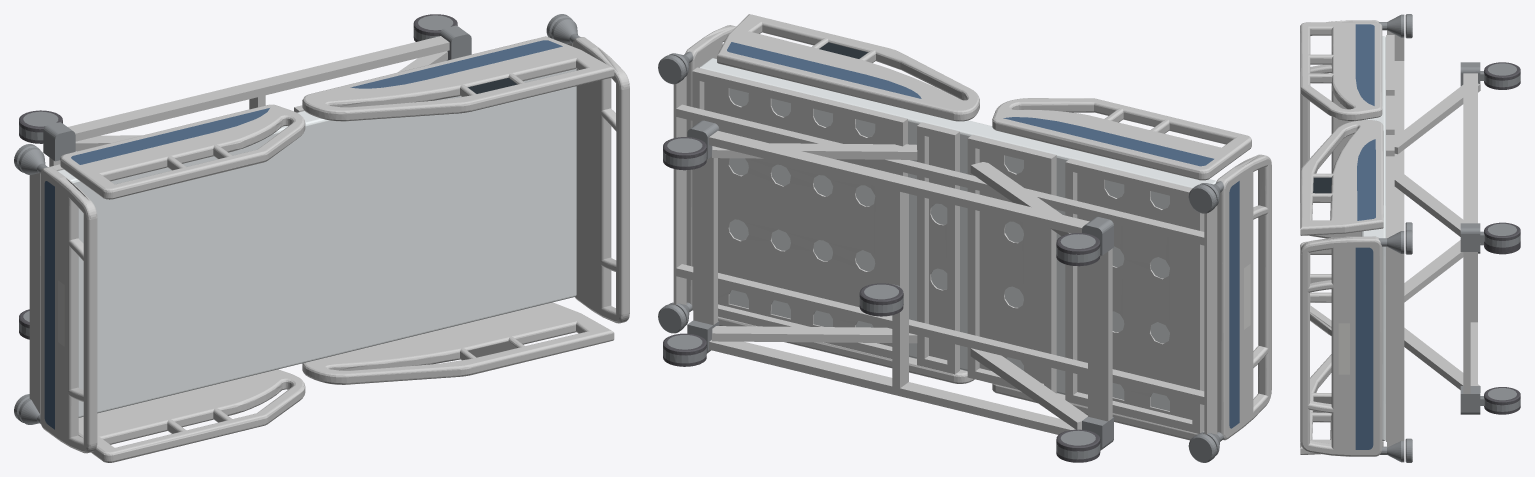
Rendered from HospitalBed.dae.
3 renders of one model, left to right at view 1: azimuth 30°, elevation 25°; view 2: azimuth 150°, elevation 25°; view 3: azimuth 270°, elevation 25°, orthographic. The views are drawn at different scales.
Parts seen in each view (by area): view 1: node_478e3def_41f2_43f9_b430_fc60b4d9b967_mesh0, node_2006829e_54ec_4334_bde4_4c59538d57ef_mesh0, node_ba18cf1b_bd4c_4ecd_a835_8ea5a9a93f5a_mesh0, node_fdbd8c94_3223_4cf7_b5a2_cfde519da265_mesh0, node_8890fd18_5be4_4d79_a7cd_62602f75226e_mesh0, node_67d6d611_6329_44d8_9904_80a70c72fd1d_mesh0, node_0024b23e_90e2_467d_83e0_f4d8cf379cf7_mesh0, node_1c993513_7750_45b3_8bfc_5615b5adfe17_mesh0, node_3c42bd38_24ec_47ff_943d_60bd509f94d9_mesh0, node_bd066da0_0be8_4381_8756_24483003024c_mesh0, node_966baa40_941b_4ab9_909a_093c46fd3494_mesh0, node_5b0e7c99_1895_4e89_8617_7dc551f1501a_mesh0 (+3 smaller); view 2: node_93010757_4fad_4bb6_b46e_b8bf334de1f8_mesh0, node_679e9a14_dabf_4772_b5fa_f2a72e33e269_mesh0, node_0024b23e_90e2_467d_83e0_f4d8cf379cf7_mesh0, node_478e3def_41f2_43f9_b430_fc60b4d9b967_mesh0, node_1c993513_7750_45b3_8bfc_5615b5adfe17_mesh0, node_6c902671_7116_4071_9b41_15d907dbfcd3_mesh0, node_2006829e_54ec_4334_bde4_4c59538d57ef_mesh0, node_fdbd8c94_3223_4cf7_b5a2_cfde519da265_mesh0, node_67d6d611_6329_44d8_9904_80a70c72fd1d_mesh0, node_163b2f93_34d1_4134_af7a_eb476f36abe8_mesh0, node_a639dc11_9381_42f3_9ec2_f81076ff99e3_mesh0, node_a9cfef90_7504_459e_9094_86bc7229d7a0_mesh0 (+11 smaller); view 3: node_2006829e_54ec_4334_bde4_4c59538d57ef_mesh0, node_fdbd8c94_3223_4cf7_b5a2_cfde519da265_mesh0, node_67d6d611_6329_44d8_9904_80a70c72fd1d_mesh0, node_1c993513_7750_45b3_8bfc_5615b5adfe17_mesh0, node_0024b23e_90e2_467d_83e0_f4d8cf379cf7_mesh0, node_3c42bd38_24ec_47ff_943d_60bd509f94d9_mesh0, node_a639dc11_9381_42f3_9ec2_f81076ff99e3_mesh0, node_db7fcb85_f38f_4f23_99ed_683390d04e24_mesh0, node_595262d2_30b9_4893_8ee8_ed6a8d5dd426_mesh0, node_478e3def_41f2_43f9_b430_fc60b4d9b967_mesh0, node_5b0e7c99_1895_4e89_8617_7dc551f1501a_mesh0, node_28ce15bc_426e_49bb_b331_aa3c1f6e486f_mesh0 (+10 smaller).
Boxes of the visible parts, x1=… form: node_478e3def_41f2_43f9_b430_fc60b4d9b967_mesh0: x1=58, y1=68, x2=576, y2=417; node_2006829e_54ec_4334_bde4_4c59538d57ef_mesh0: x1=40, y1=37, x2=629, y2=453; node_ba18cf1b_bd4c_4ecd_a835_8ea5a9a93f5a_mesh0: x1=302, y1=302, x2=614, y2=384; node_fdbd8c94_3223_4cf7_b5a2_cfde519da265_mesh0: x1=302, y1=36, x2=614, y2=121; node_8890fd18_5be4_4d79_a7cd_62602f75226e_mesh0: x1=78, y1=369, x2=305, y2=462; node_67d6d611_6329_44d8_9904_80a70c72fd1d_mesh0: x1=60, y1=104, x2=305, y2=199; node_0024b23e_90e2_467d_83e0_f4d8cf379cf7_mesh0: x1=49, y1=36, x2=449, y2=166; node_1c993513_7750_45b3_8bfc_5615b5adfe17_mesh0: x1=29, y1=43, x2=572, y2=413; node_3c42bd38_24ec_47ff_943d_60bd509f94d9_mesh0: x1=44, y1=181, x2=54, y2=429; node_bd066da0_0be8_4381_8756_24483003024c_mesh0: x1=71, y1=108, x2=269, y2=164; node_966baa40_941b_4ab9_909a_093c46fd3494_mesh0: x1=350, y1=40, x2=562, y2=88; node_5b0e7c99_1895_4e89_8617_7dc551f1501a_mesh0: x1=14, y1=14, x2=577, y2=424; node_93010757_4fad_4bb6_b46e_b8bf334de1f8_mesh0: x1=972, y1=134, x2=1192, y2=419; node_679e9a14_dabf_4772_b5fa_f2a72e33e269_mesh0: x1=697, y1=67, x2=907, y2=346; node_0024b23e_90e2_467d_83e0_f4d8cf379cf7_mesh0: x1=693, y1=131, x2=1112, y2=434; node_478e3def_41f2_43f9_b430_fc60b4d9b967_mesh0: x1=699, y1=58, x2=1216, y2=410; node_1c993513_7750_45b3_8bfc_5615b5adfe17_mesh0: x1=673, y1=76, x2=1217, y2=434; node_6c902671_7116_4071_9b41_15d907dbfcd3_mesh0: x1=967, y1=135, x2=1204, y2=433; node_2006829e_54ec_4334_bde4_4c59538d57ef_mesh0: x1=685, y1=25, x2=1271, y2=440; node_fdbd8c94_3223_4cf7_b5a2_cfde519da265_mesh0: x1=717, y1=14, x2=979, y2=121; node_67d6d611_6329_44d8_9904_80a70c72fd1d_mesh0: x1=992, y1=98, x2=1251, y2=180; node_163b2f93_34d1_4134_af7a_eb476f36abe8_mesh0: x1=917, y1=123, x2=959, y2=374; node_a639dc11_9381_42f3_9ec2_f81076ff99e3_mesh0: x1=712, y1=143, x2=917, y2=343; node_a9cfef90_7504_459e_9094_86bc7229d7a0_mesh0: x1=692, y1=68, x2=907, y2=358; node_2006829e_54ec_4334_bde4_4c59538d57ef_mesh0: x1=1300, y1=20, x2=1382, y2=456; node_fdbd8c94_3223_4cf7_b5a2_cfde519da265_mesh0: x1=1300, y1=120, x2=1383, y2=235; node_67d6d611_6329_44d8_9904_80a70c72fd1d_mesh0: x1=1300, y1=22, x2=1382, y2=120; node_1c993513_7750_45b3_8bfc_5615b5adfe17_mesh0: x1=1387, y1=30, x2=1404, y2=447; node_0024b23e_90e2_467d_83e0_f4d8cf379cf7_mesh0: x1=1463, y1=73, x2=1477, y2=393; node_3c42bd38_24ec_47ff_943d_60bd509f94d9_mesh0: x1=1355, y1=247, x2=1373, y2=449; node_a639dc11_9381_42f3_9ec2_f81076ff99e3_mesh0: x1=1394, y1=169, x2=1480, y2=392; node_db7fcb85_f38f_4f23_99ed_683390d04e24_mesh0: x1=1394, y1=83, x2=1480, y2=302; node_595262d2_30b9_4893_8ee8_ed6a8d5dd426_mesh0: x1=1484, y1=63, x2=1520, y2=411; node_478e3def_41f2_43f9_b430_fc60b4d9b967_mesh0: x1=1361, y1=36, x2=1385, y2=440; node_5b0e7c99_1895_4e89_8617_7dc551f1501a_mesh0: x1=1387, y1=14, x2=1412, y2=462; node_28ce15bc_426e_49bb_b331_aa3c1f6e486f_mesh0: x1=1460, y1=62, x2=1480, y2=414.
Size of the model in its own units: 2190 by 1038 by 901.
